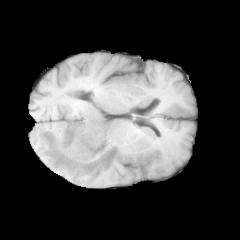glioma: (39, 100, 121, 176)
